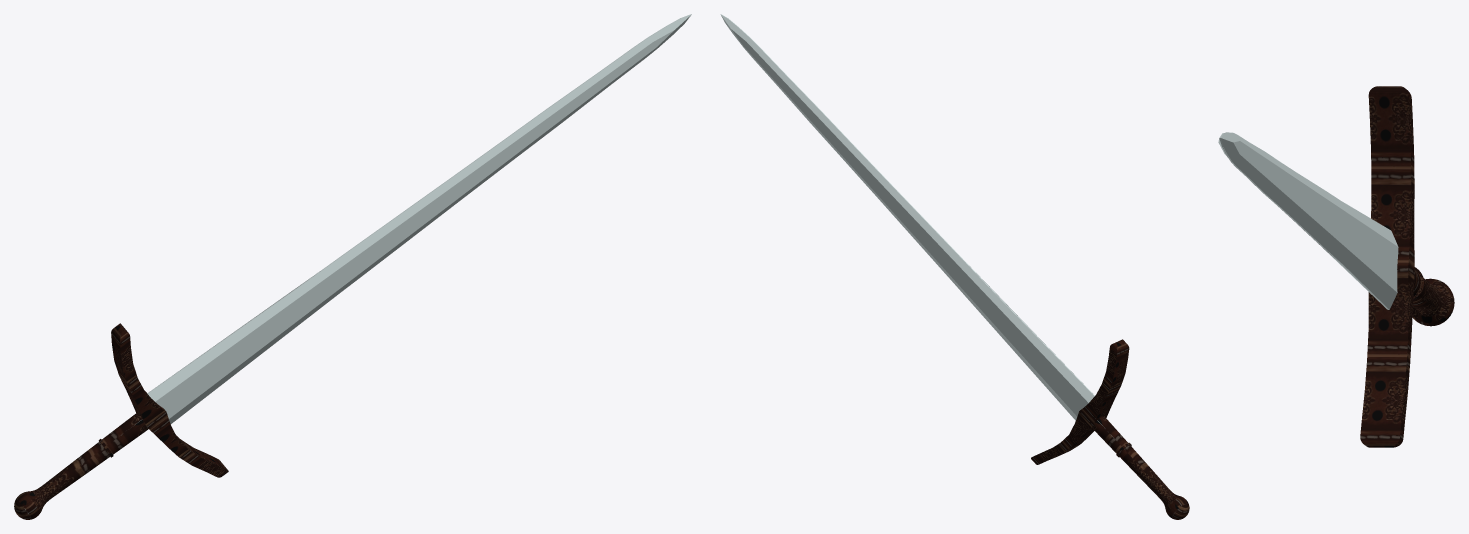
File: sword.glb
3 renders of one model, left to right at view 1: azimuth 30°, elevation 25°; view 2: azimuth 150°, elevation 25°; view 3: azimuth 270°, elevation 25°, orthographic. The views are drawn at different scales.
Parts seen in each view (by area): view 1: Plane; view 2: Plane; view 3: Plane.
Part boxes in pixels (x1,y1,x2,y2): Plane: [14, 14, 691, 519]; Plane: [720, 14, 1189, 519]; Plane: [1218, 86, 1454, 447].
Size of the model in its own units: 1.58 by 0.9899 by 0.3099.
Materials: 2 (2 with a texture image).
